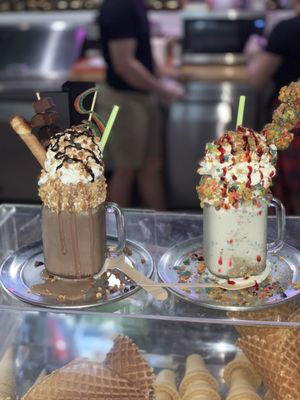curry: (0, 156, 300, 396)
sushi: (36, 117, 109, 215)
